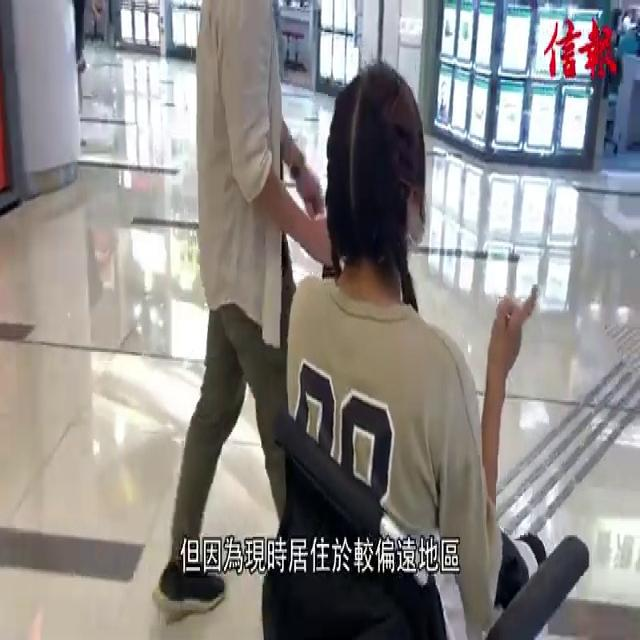wheelchairs: (245, 386, 596, 640)
